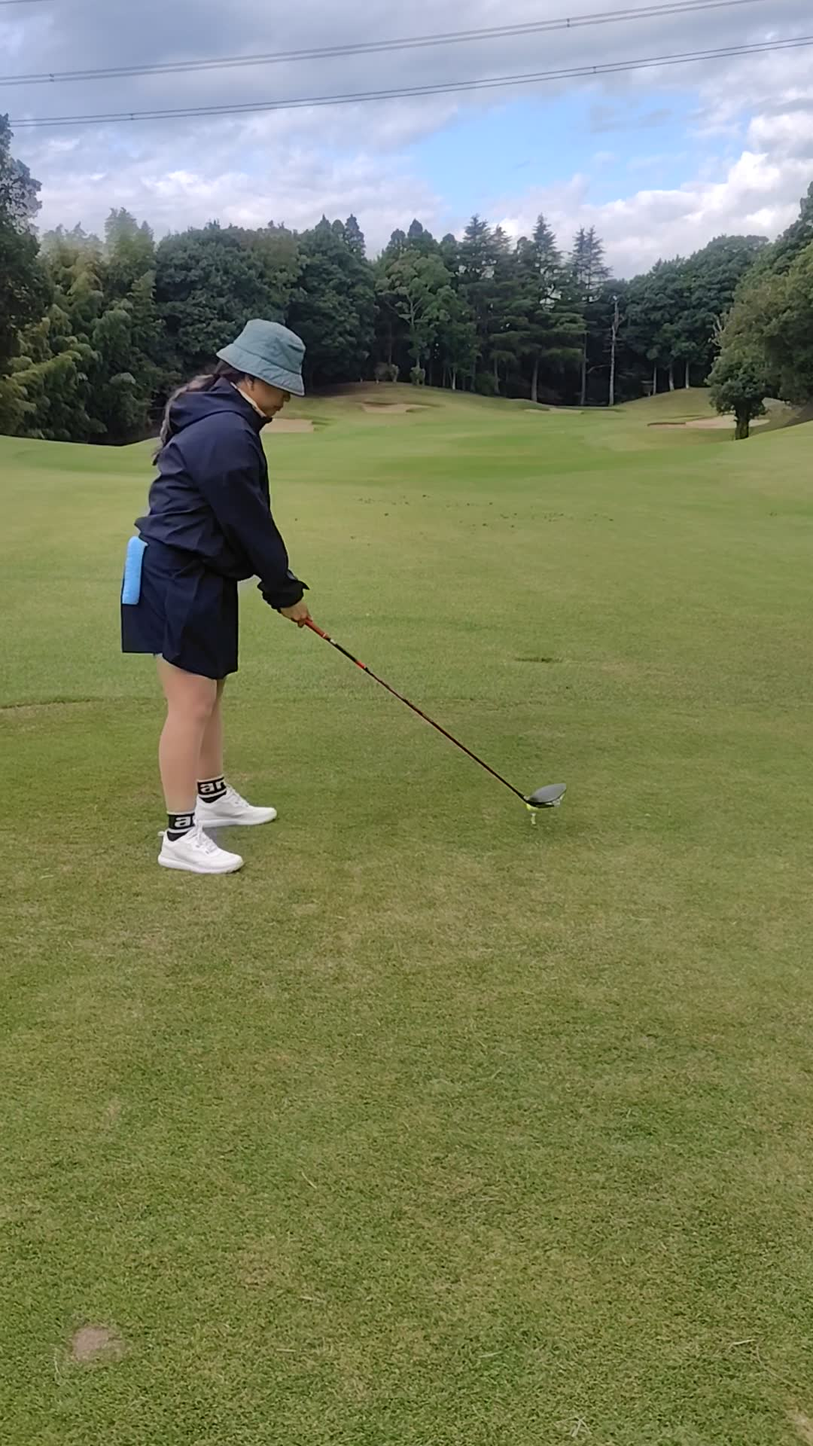clubhead: (459, 744, 600, 869)
